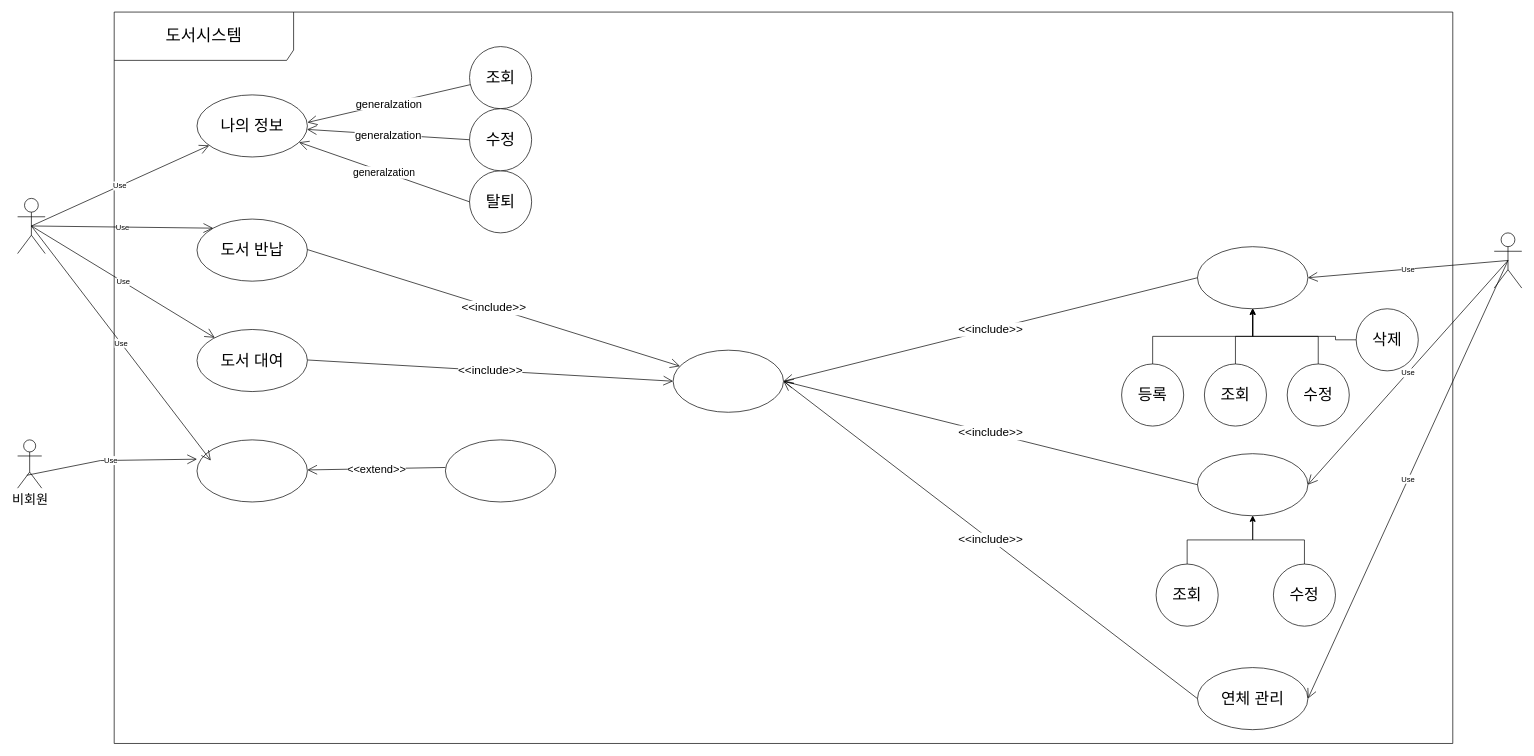
This 1534x756 diagram has some shape labels left out. The shapes that lost their labels are listed below. From the top down, each one's centre as x and y in pixels, then its label:
At (x=31, y=226): "회원".
At (x=1252, y=277): "도서 관리".
At (x=1508, y=260): "사서".
At (x=727, y=380): "인증".
At (x=251, y=470): "도서 조회".
At (x=500, y=470): "키워드 검색".
At (x=1252, y=484): "회원 관리".
